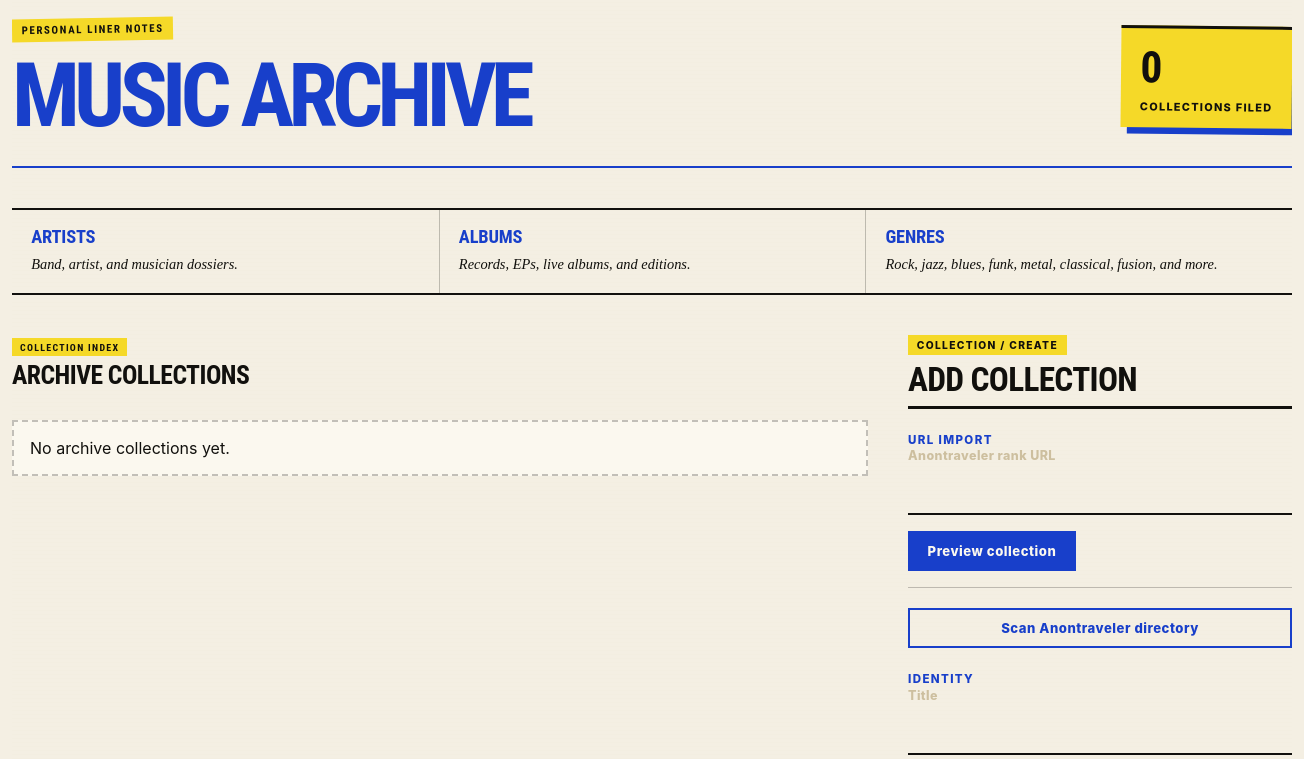
Test: ArchivePage › creates an archive collection and refreshes the list
In the field labelled "Title": (1100, 733) [908,711,1292,755], type "Classic rock guide"
(page scrolled)
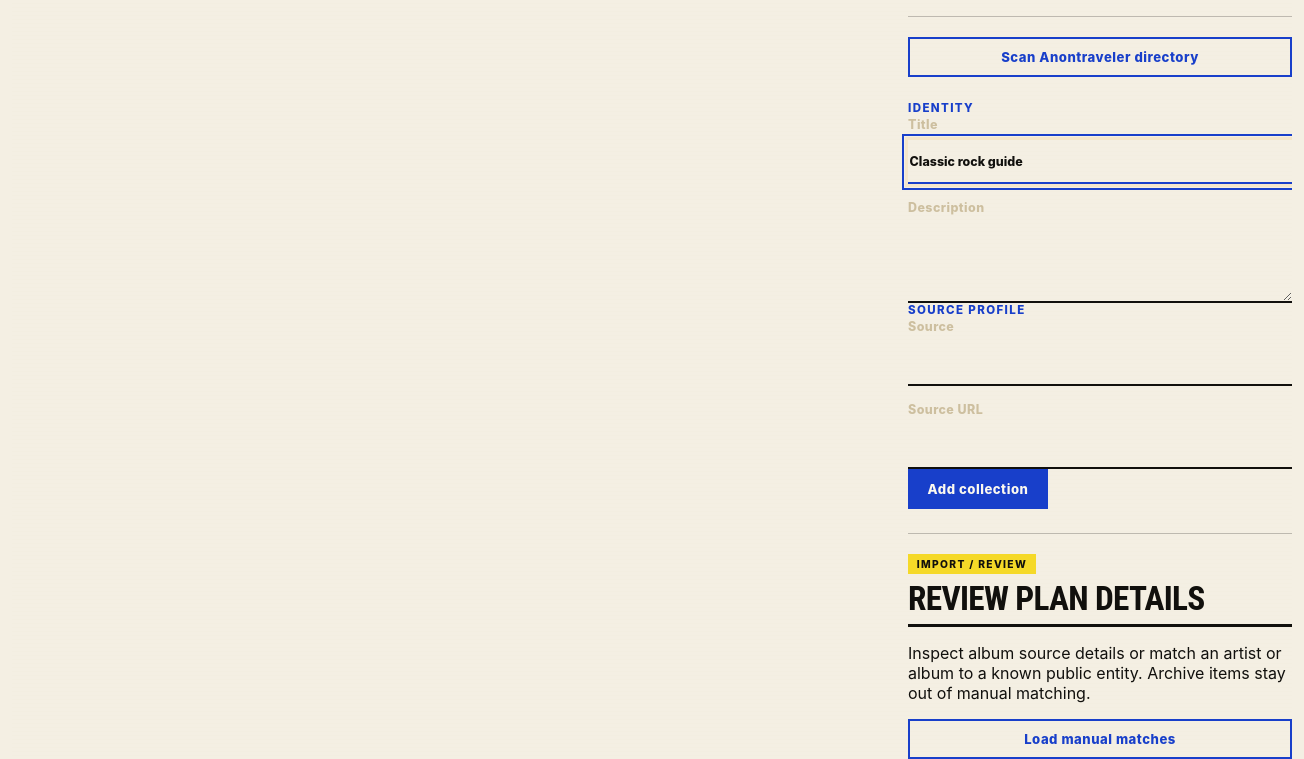
In the field labelled "Source": (1100, 364) [908,342,1292,386], type "anontraveler"
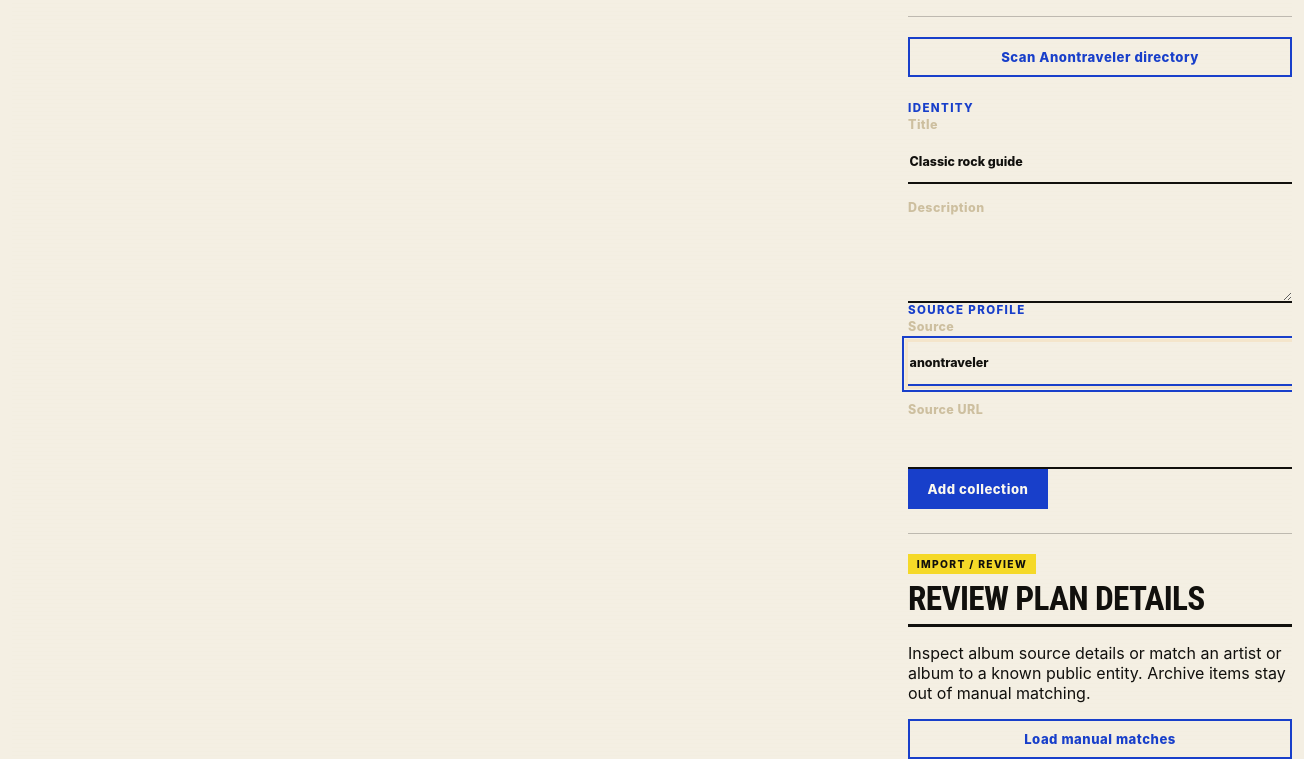
In the field labelled "Source URL": (1100, 446) [908,424,1292,468], type "https://example.test/rank/version/1"
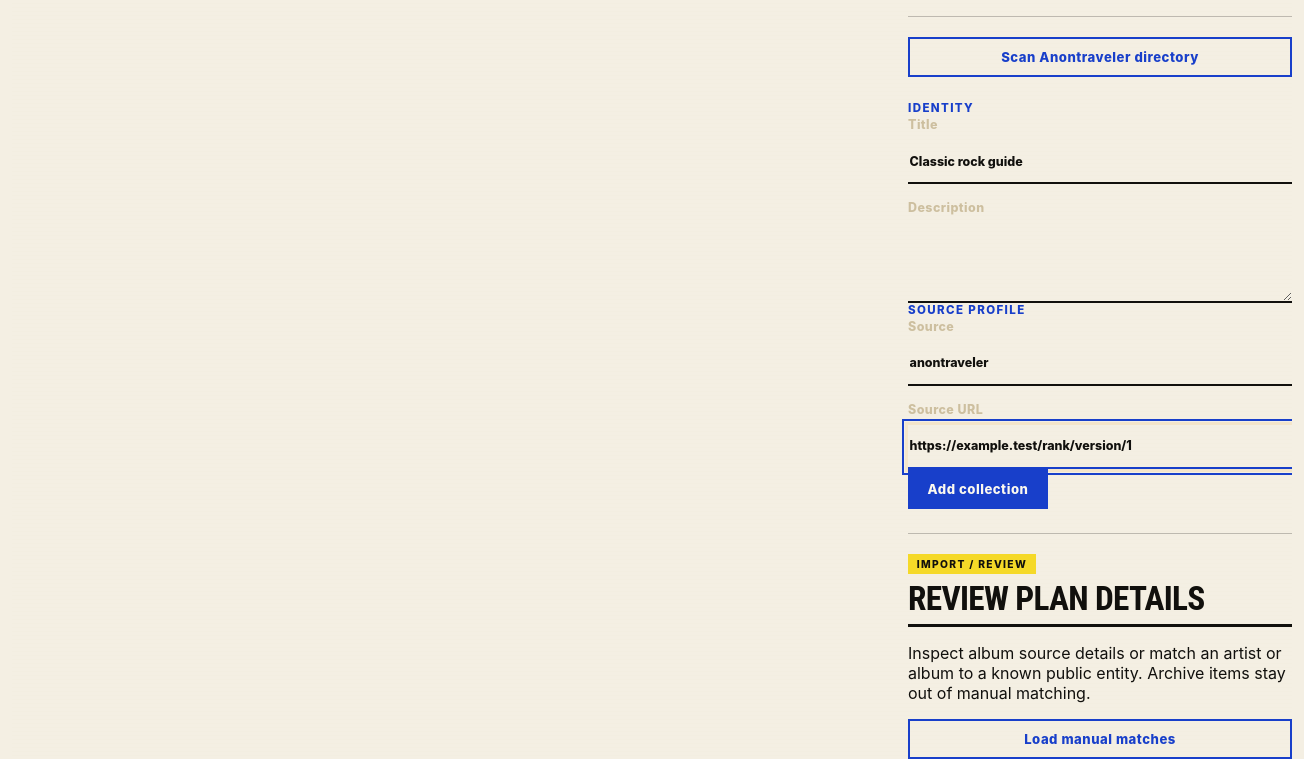
In the text box labelled "Description": (1100, 263) [908,223,1292,303], type "Albums to explore."
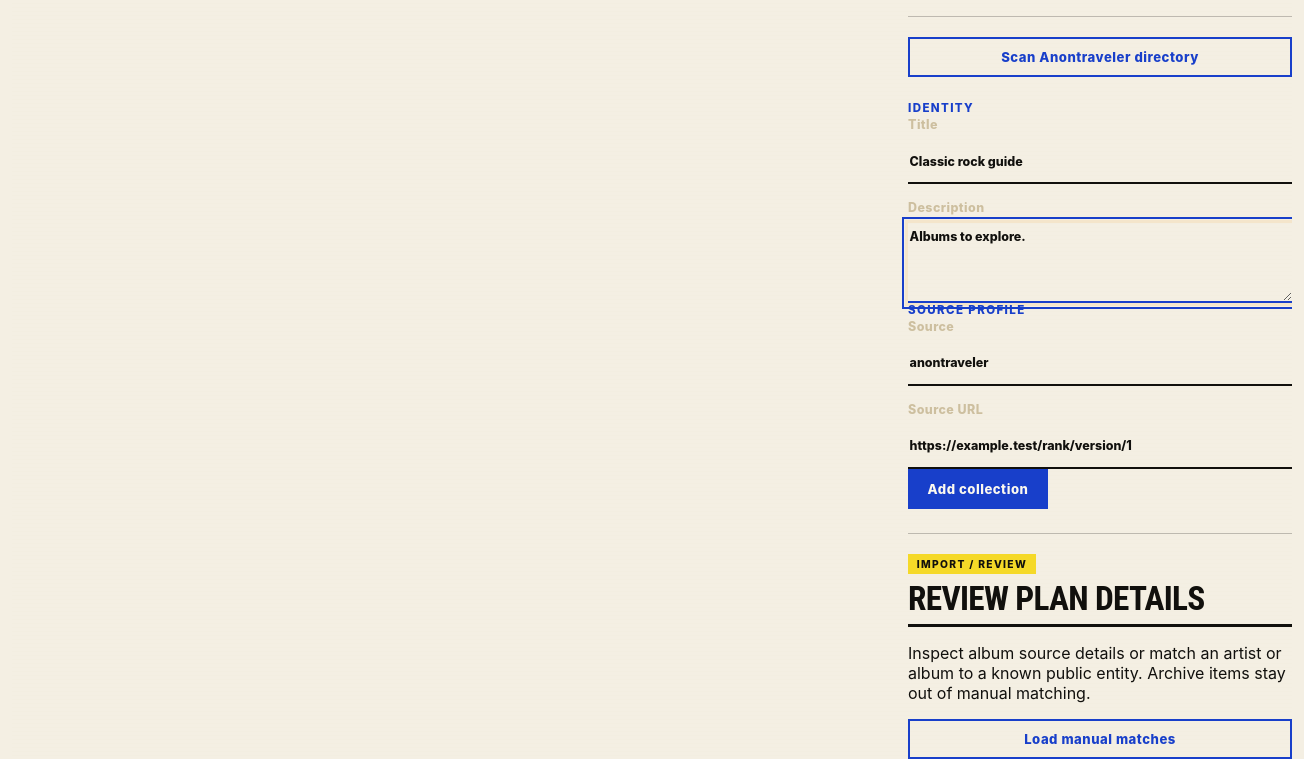
Click the button "Add collection": (978, 488) [908,468,1048,508]
(page scrolled)
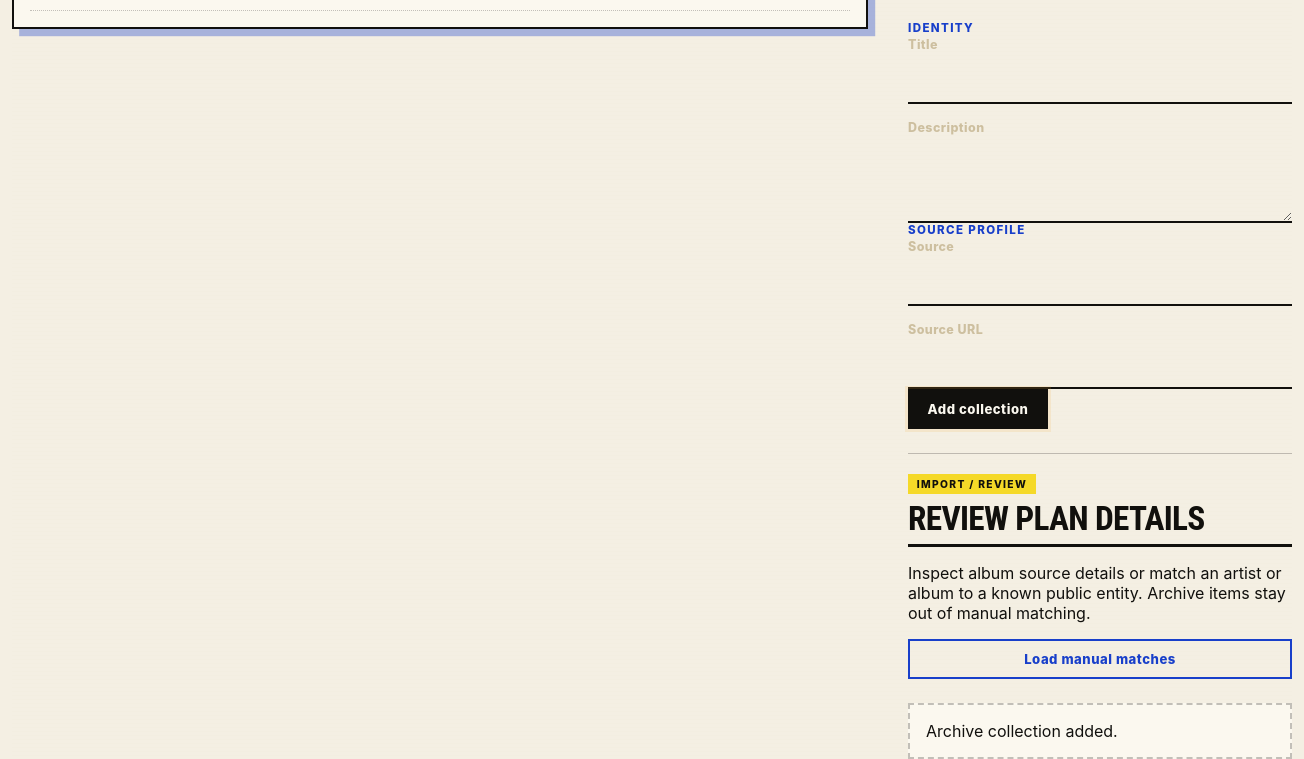
Result: the text "Archive collection added." is shown at [908,703,1292,758]
